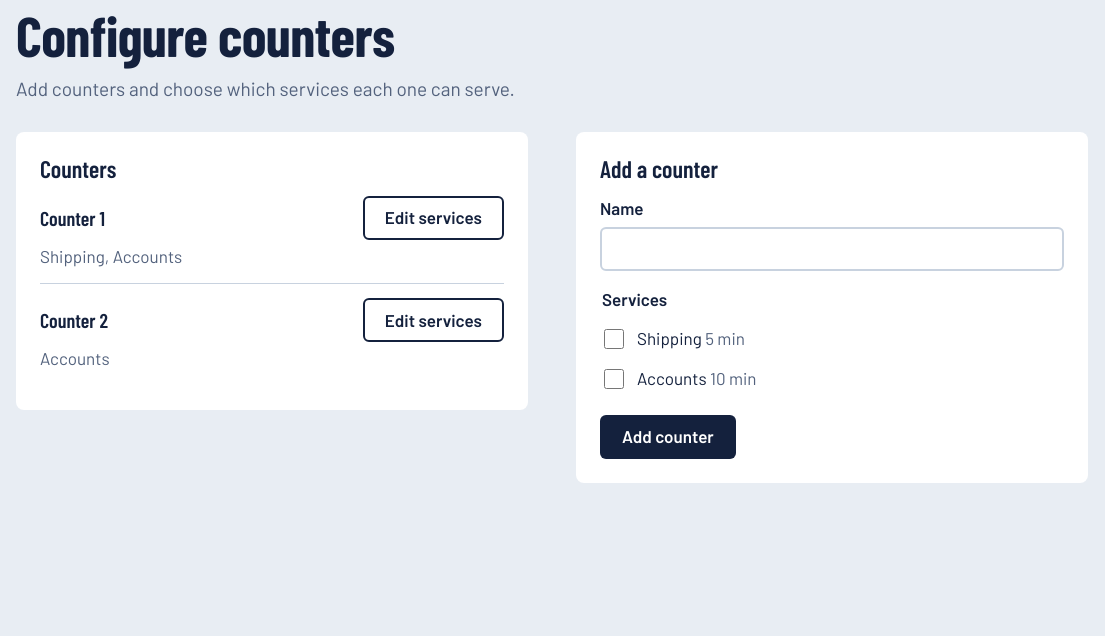
Scenario: Config counters › shows an error when saving fails and keeps the editor open
Click the button with aria-label "Edit services of Counter 1".
click(433, 218)  # box x1=363 y1=196 x2=504 y2=240
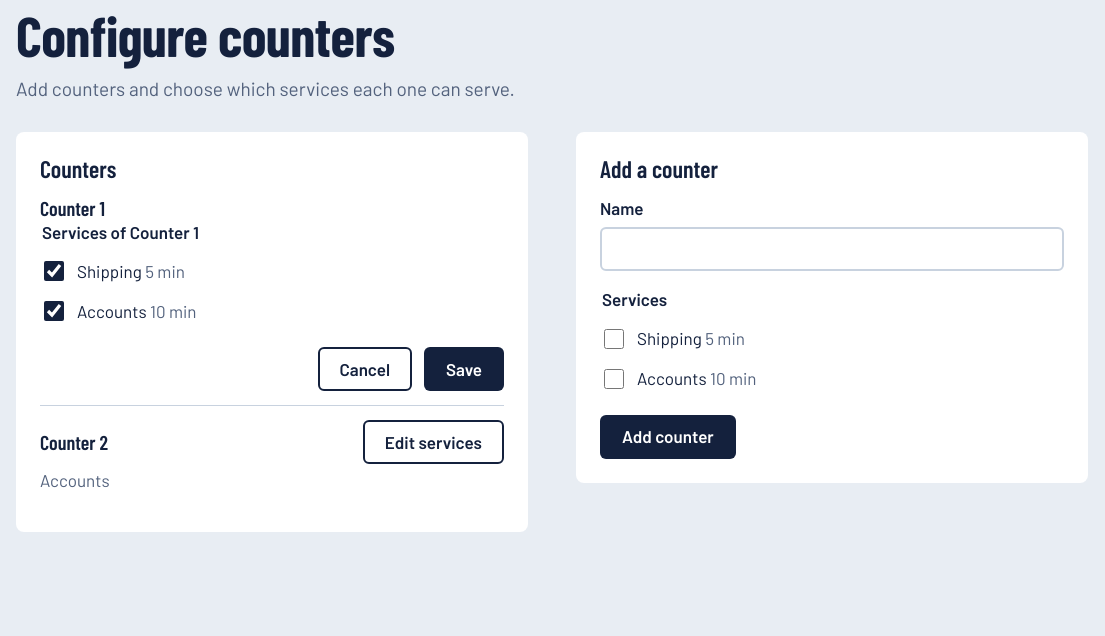
Click the button "Save".
click(464, 369)  # box x1=424 y1=347 x2=504 y2=391
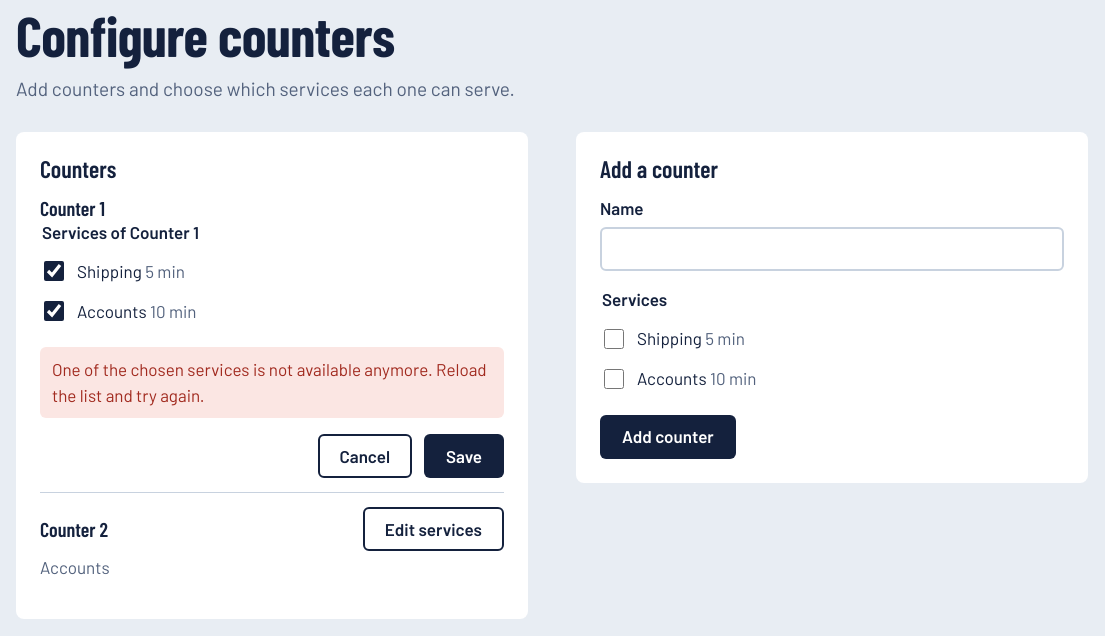
Expected: the element "Services of Counter 1" is shown, x1=42 y1=222 x2=199 y2=321
Expected: the message shows "not available anymore", x1=52 y1=359 x2=487 y2=405
